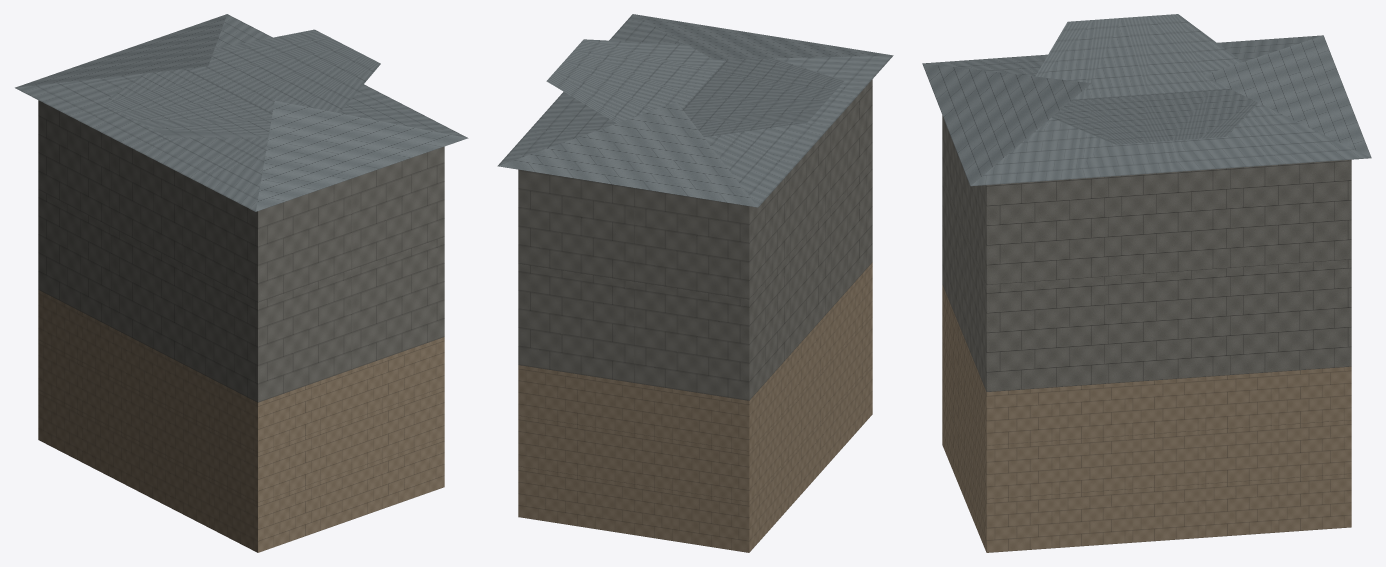
Rendered from bld_c44_40_232.gltf.
3 renders of one model, left to right at view 1: azimuth 30°, elevation 25°; view 2: azimuth 150°, elevation 25°; view 3: azimuth 270°, elevation 25°, orthographic. The views are drawn at different scales.
Parts seen in each view (by area): view 1: bld_c44_40_232; view 2: bld_c44_40_232; view 3: bld_c44_40_232.
Boxes of the visible parts, x1,y1,x2,y2 form: bld_c44_40_232: (15, 14, 468, 552); bld_c44_40_232: (497, 14, 893, 552); bld_c44_40_232: (922, 14, 1371, 552).
Bounding box in the file's own units: 10.27 × 12.9 × 12.92.
3 materials, 3 textured.
